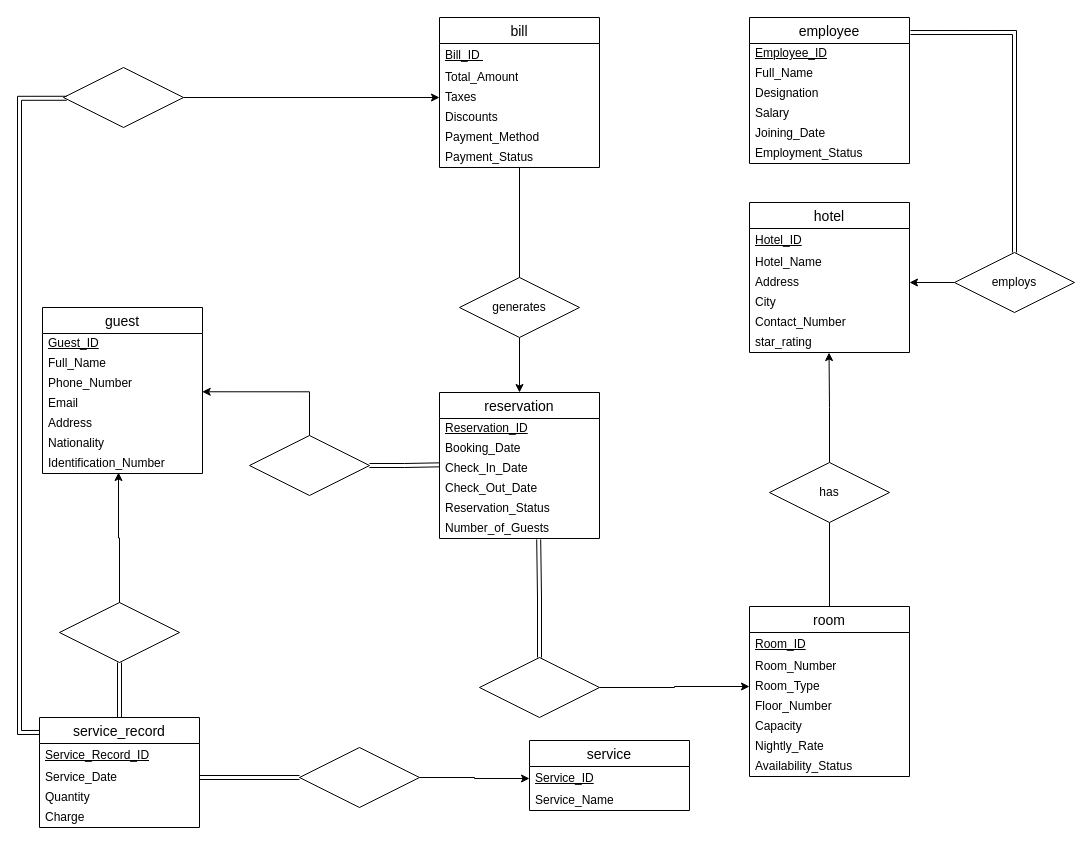
The diagram is 1092 pixels wide and 845 high, and some of its shapes have lost their labels. The box of each missing label's shape, as (x1, y1, x2, y2) in pixels:
for: (298, 746, 420, 808)
includes: (62, 66, 184, 128)
makes: (248, 434, 370, 496)
reserved_for: (478, 656, 600, 718)
uses: (58, 602, 180, 662)
